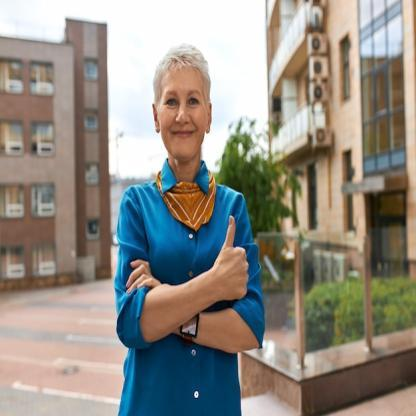thumb_up: (213, 214, 251, 303)
